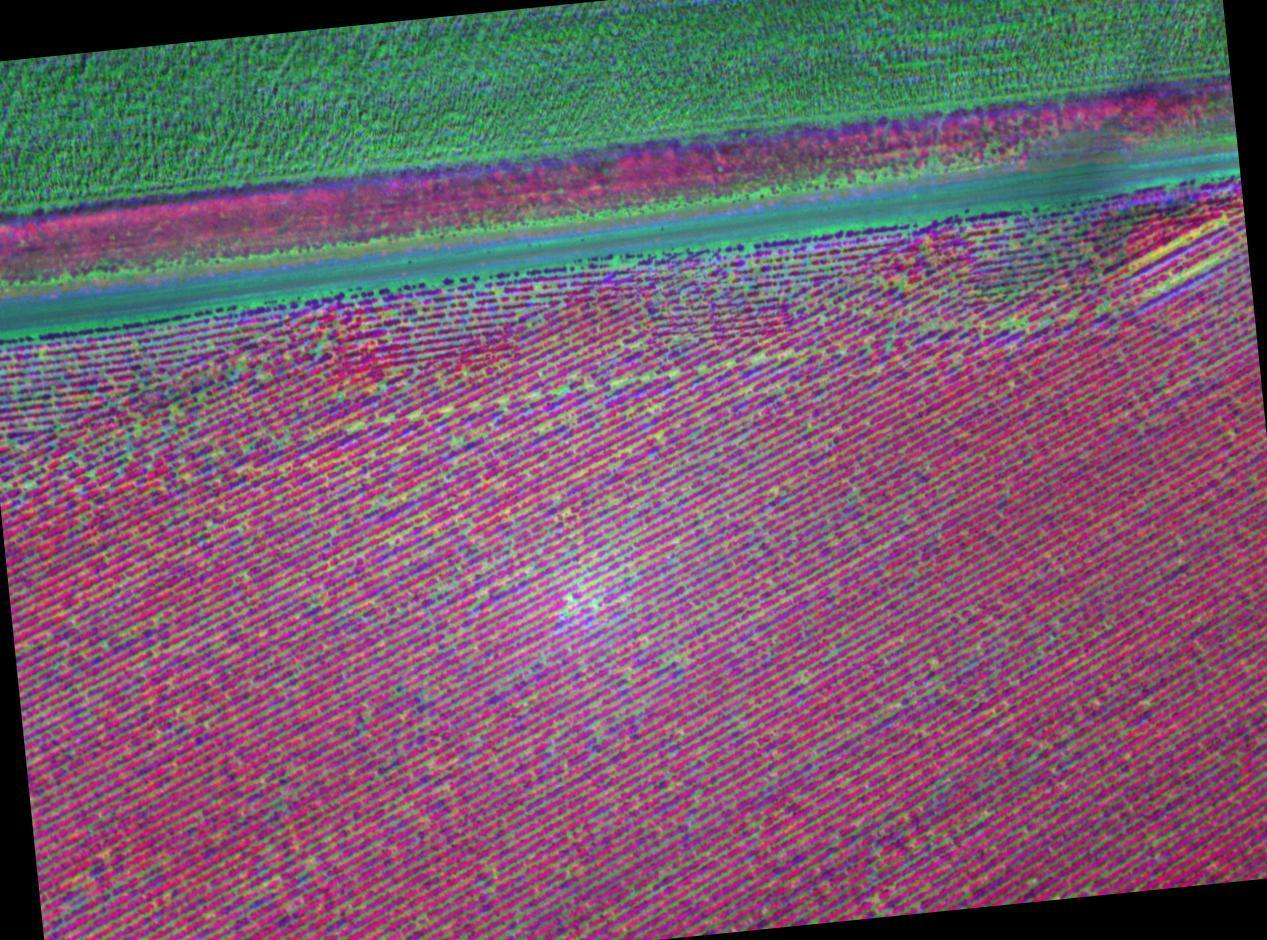dc: (672, 371, 677, 377), (1040, 238, 1044, 244), (757, 355, 761, 361), (900, 280, 904, 285), (1015, 321, 1019, 325), (555, 493, 559, 497), (675, 656, 679, 660), (802, 679, 806, 683), (864, 308, 867, 312), (540, 425, 543, 429), (285, 698, 289, 701), (276, 875, 280, 878), (524, 567, 527, 570), (320, 601, 323, 604)
